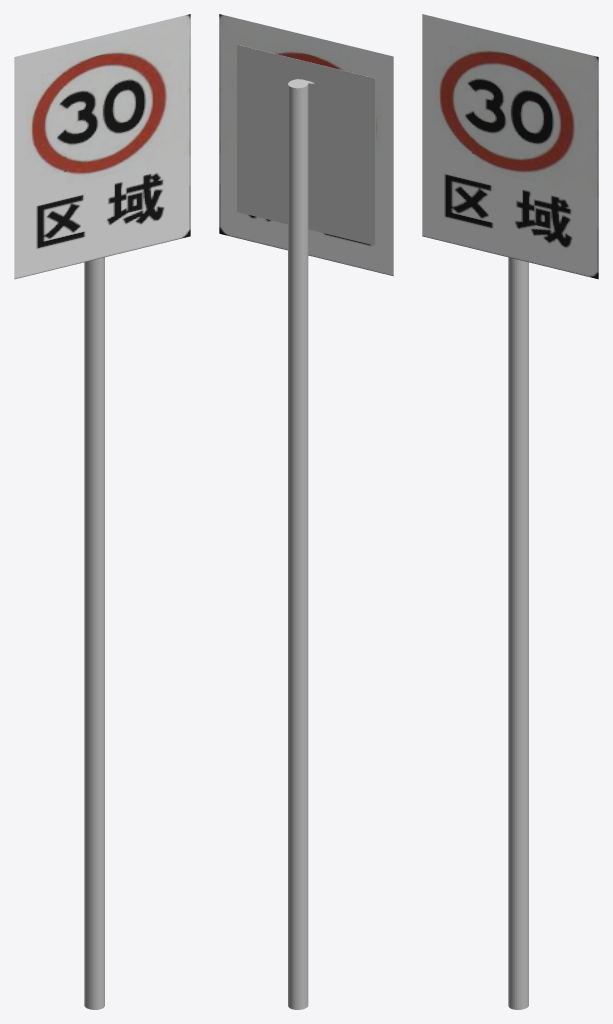
3 views of the same model, side by side, from view 1: azimuth 30°, elevation 25°; view 2: azimuth 150°, elevation 25°; view 3: azimuth 330°, elevation 25° (orthographic).
Parts seen in each view (by area): view 1: SM_zhishipai_05; view 2: SM_zhishipai_05; view 3: SM_zhishipai_05.
Boxes of the visible parts, x1=… form: SM_zhishipai_05: x1=14, y1=14, x2=190, y2=1009; SM_zhishipai_05: x1=219, y1=14, x2=393, y2=1009; SM_zhishipai_05: x1=422, y1=14, x2=598, y2=1009.
Bounding box in the file's own units: 3.21 × 16.98 × 0.4286.
Materials: 2 (1 with a texture image).
